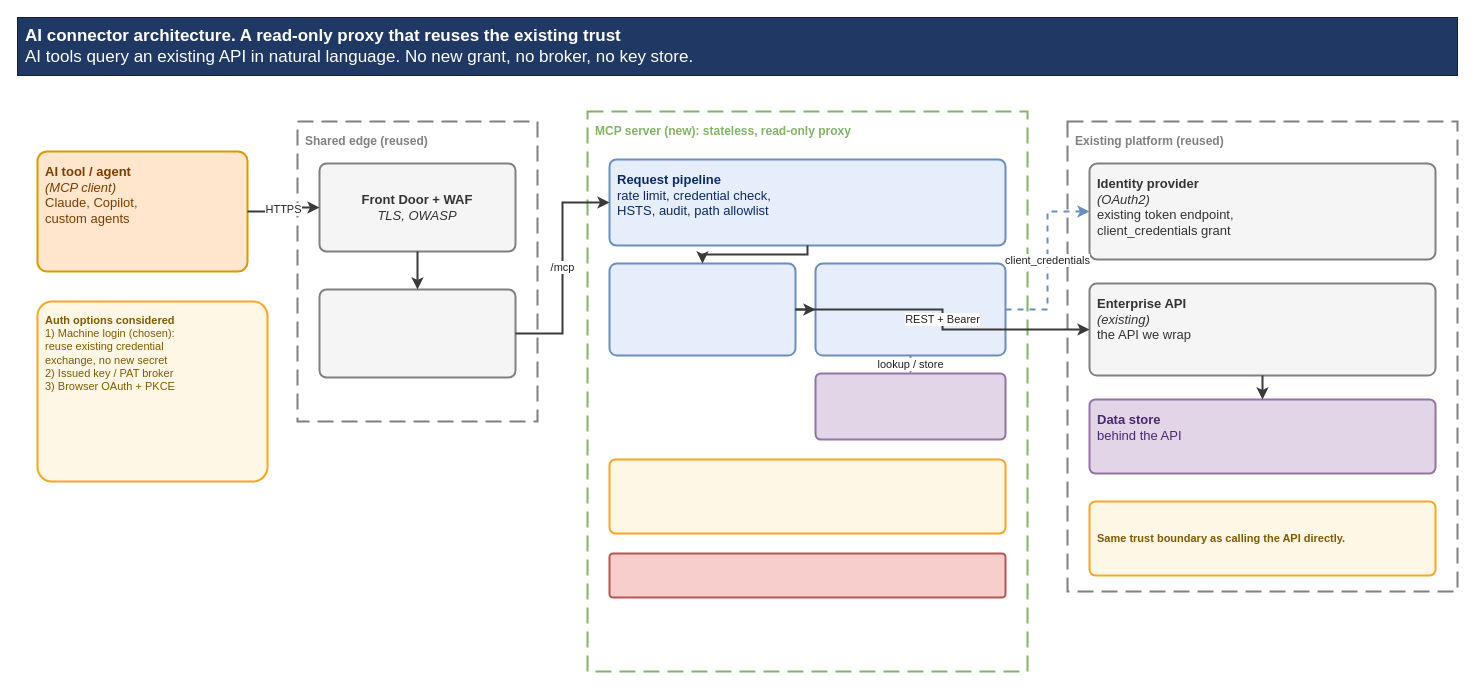
The diagram is 1476 pixels wide and 690 high, and some of its shapes have lost their labels. The shapes that lost their labels are listed below. From the top down, each one's centre as x and y in pixels, then its label:
At pixel 702 309: "Tools (read-only) map language to existing API calls".
At pixel 910 309: "Token exchange borrow identity server-side".
At pixel 417 333: "API gateway rate limit, quotas".
At pixel 910 406: "Token cache key: id + hash(secret)".
At pixel 807 496: "No new grant, broker, or key store. The secret never enters the model context.".
At pixel 807 575: "Hard part lives here: long-lived streams + shared cache at scale".
